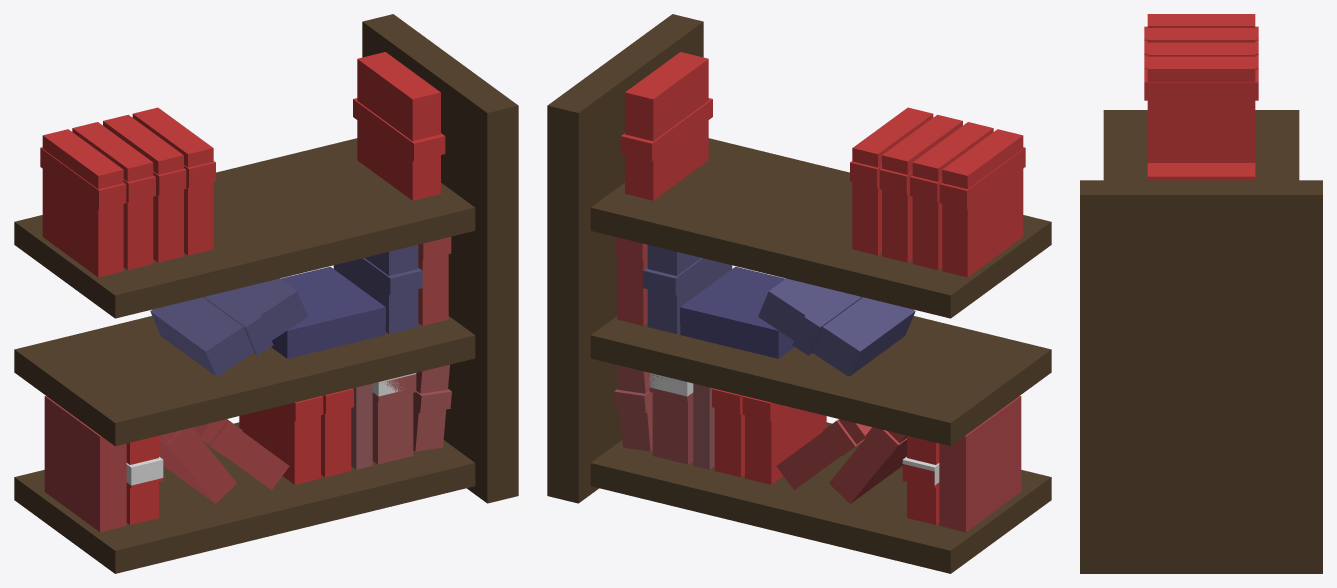
The model's file is Bookshelf.glb.
The picture shows the model from 3 angles, left to right: view 1: azimuth 30°, elevation 25°; view 2: azimuth 150°, elevation 25°; view 3: azimuth 270°, elevation 25°; orthographic projection. The views are drawn at different scales.
Visible parts, largest first — view 1: BOOK2.004, Cube.001, Cube.002, Cube.003, Cube, BOOK2.003, Cube.004, Cube.005, BOOK.004, BOOK2.002, BOOK, BOOK2.001 (+3 smaller); view 2: BOOK2.004, Cube.001, Cube.002, Cube.003, Cube, BOOK2.003, Cube.004, Cube.005, BOOK.004, BOOK2.002, BOOK, BOOK2.001 (+3 smaller); view 3: Cube.002, BOOK2.004, Cube.001.
Part boxes in pixels (box(x1,y1,x2,y2)): BOOK2.004: box(40, 52, 445, 524); Cube.001: box(14, 138, 475, 318); Cube.002: box(362, 14, 518, 503); Cube.003: box(14, 316, 475, 446); Cube: box(14, 422, 475, 573); BOOK2.003: box(150, 278, 307, 376); Cube.004: box(44, 396, 126, 532); Cube.005: box(271, 266, 385, 358); BOOK.004: box(159, 419, 289, 503); BOOK2.002: box(333, 245, 422, 333); BOOK: box(372, 374, 416, 464); BOOK2.001: box(413, 364, 451, 451); BOOK2.004: box(620, 52, 1025, 524); Cube.001: box(590, 138, 1051, 318); Cube.002: box(547, 14, 703, 503); Cube.003: box(590, 316, 1051, 446); Cube: box(590, 422, 1051, 573); BOOK2.003: box(758, 278, 915, 376); Cube.004: box(939, 396, 1021, 532); Cube.005: box(680, 266, 794, 358); BOOK.004: box(776, 419, 906, 503); BOOK2.002: box(643, 245, 732, 333); BOOK: box(649, 374, 693, 464); BOOK2.001: box(614, 364, 652, 451); Cube.002: box(1080, 180, 1322, 573); BOOK2.004: box(1144, 14, 1258, 180); Cube.001: box(1103, 110, 1299, 180).
Bounding box in the file's own units: 3.21 × 3.06 × 1.78.
Materials: 11 (2 with a texture image).
